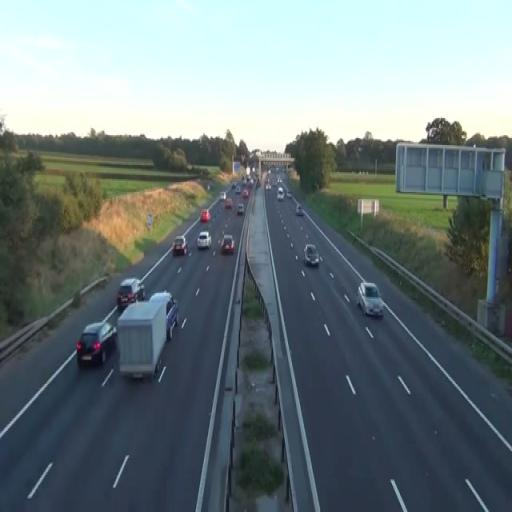Car: (76, 319, 118, 367), (357, 281, 384, 318), (116, 278, 146, 309), (303, 244, 319, 267), (172, 236, 187, 256), (221, 234, 235, 255), (197, 230, 211, 250), (236, 202, 244, 216), (224, 198, 232, 210)
Truck: (116, 290, 179, 380)
